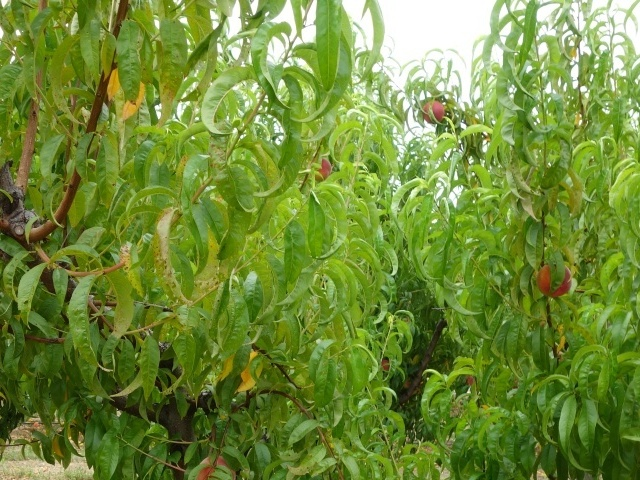peach: (534, 258, 576, 298), (193, 455, 236, 480), (417, 99, 450, 127), (305, 155, 335, 185)
